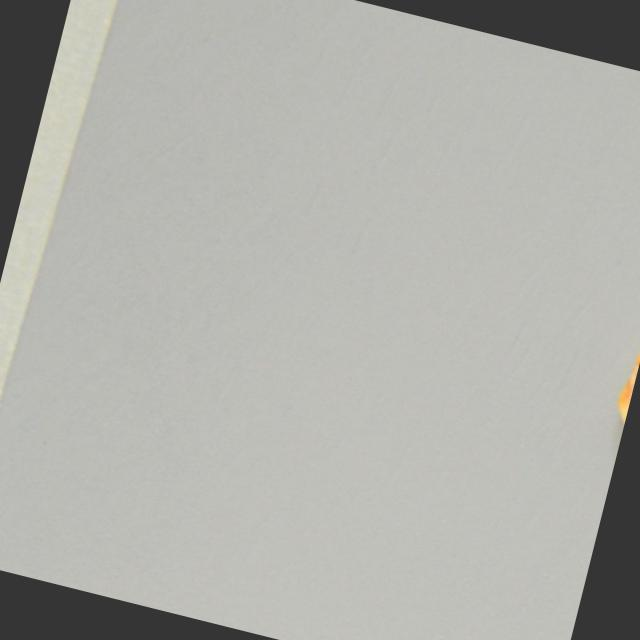dañado: (604, 324, 640, 436)
